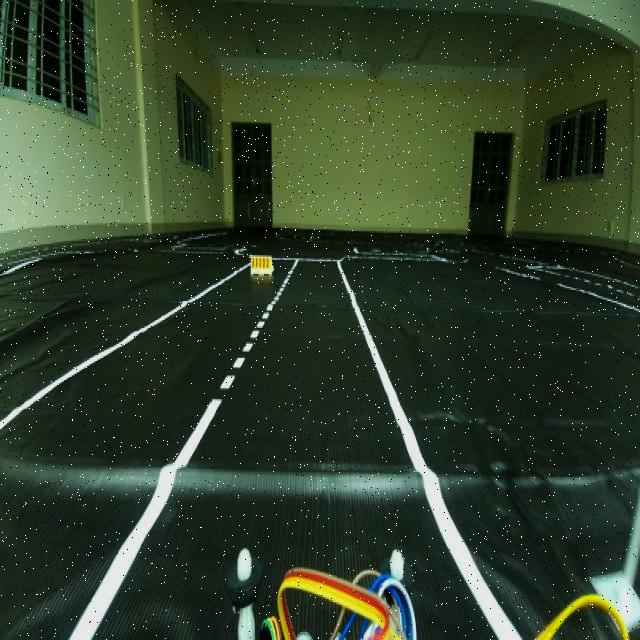roadblock: (246, 246, 278, 284)
